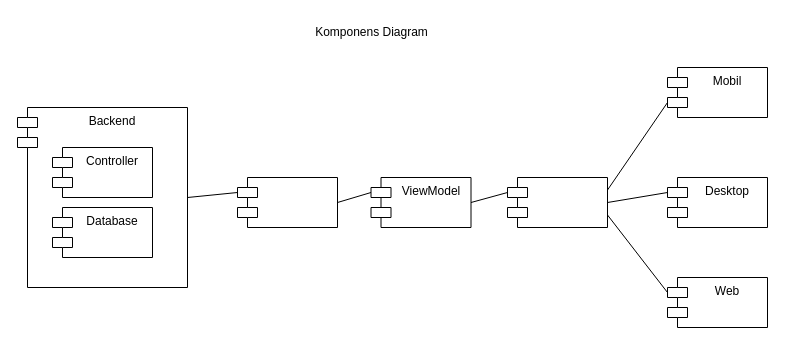
Image size: 785x345. Some labels were removed from this diagram. The shapes that lost their labels are listed below. From the top down, each one's centre as x and y in pixels, then its label:
At (x=287, y=202): "Services".
At (x=557, y=202): "Model".
